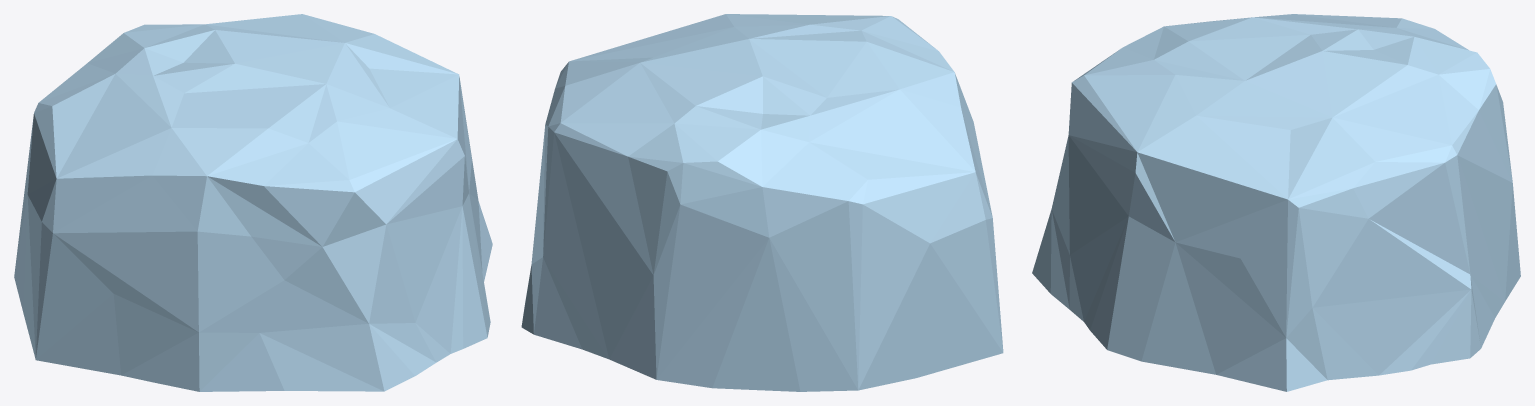
Rendered from PROP_Ice_FloorM03.FBX.
3 views of the same model, side by side, from view 1: azimuth 30°, elevation 25°; view 2: azimuth 150°, elevation 25°; view 3: azimuth 270°, elevation 25° (orthographic). The views are drawn at different scales.
Parts seen in each view (by area): view 1: PROP_Ice_FloorM03; view 2: PROP_Ice_FloorM03; view 3: PROP_Ice_FloorM03.
Boxes of the visible parts, box(x1,y1,x2,y2) form: PROP_Ice_FloorM03: box(14, 14, 492, 391); PROP_Ice_FloorM03: box(521, 14, 1003, 391); PROP_Ice_FloorM03: box(1032, 14, 1520, 391).
Size of the model in its own units: 886 by 430 by 826.
1 material, 1 textured.
